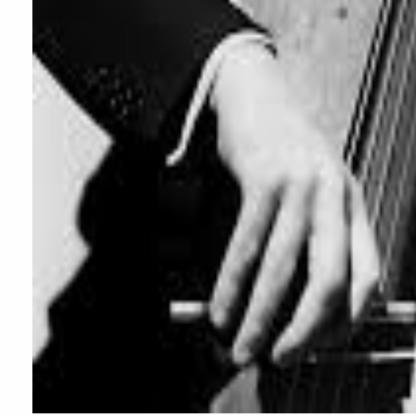good: (203, 91, 379, 361)
